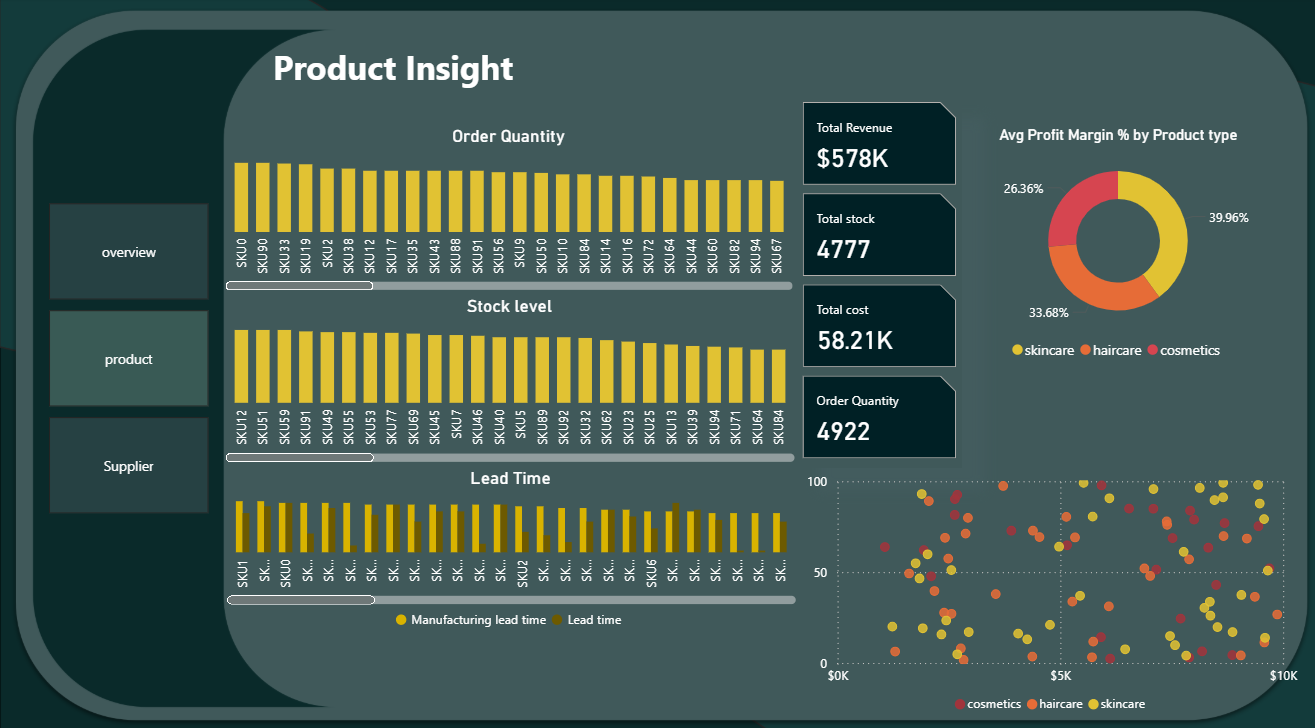

Layout of this report page (visuals, bound fields, positions):
{"tool":"powerbi","page":{"name":"product","canvas":[1280,720],"ordinal":1},"visuals":[{"type":"columnChart","title":"Order Quantity","fields":{"Y":["Table.Order Quantity"],"Category":["supply_chain_data.SKU"]},"box":[211.8,124.6,558.9,163.7],"z":0},{"type":"columnChart","title":"Stock level","fields":{"Category":["supply_chain_data.SKU"],"Y":["Sum(supply_chain_data.Stock levels)"]},"box":[211.8,288.3,560.6,165.5],"z":1000},{"type":"clusteredColumnChart","title":"Lead Time","fields":{"Category":["supply_chain_data.SKU"],"Y":["Sum(supply_chain_data.Manufacturing lead time)","Sum(supply_chain_data.Lead time)"]},"box":[213.6,453.8,560.6,165.5],"z":2000},{"type":"cardVisual","fields":{"Data":["Table.Total Revenue","Table.Total stock","Table.Total cost","Table.Order Quantity"]},"box":[770.6,96.1,158.4,357.7],"z":3000},{"type":"donutChart","fields":{"Category":["supply_chain_data.Product type"],"Y":["Sum(supply_chain_data.Avg Profit Margin %)"]},"box":[929,124.6,302.6,234.9],"z":4000},{"type":"scatterChart","fields":{"Category":["supply_chain_data.SKU"],"X":["Table.Total Revenue"],"Y":["Sum(supply_chain_data.Price)"],"Series":["supply_chain_data.Product type"]},"box":[774.2,453.8,484.1,247.4],"z":5000},{"type":"textbox","box":[259.8,40.9,259.8,55.2],"z":6000},{"type":"pageNavigator","box":[48.1,199.3,154.8,300.8],"z":7000}]}

Visuals, with their boxes in screenshot pixels (x1, y1, x2, y2), scaled from the page's 1280x720 canvas onto the 1315x728 screenshot:
"Order Quantity" columnChart: locate(218, 126, 792, 292)
"Stock level" columnChart: locate(218, 292, 794, 459)
"Lead Time" clusteredColumnChart: locate(219, 459, 795, 626)
cardVisual - Table.Total Revenue x Table.Total stock: locate(792, 97, 954, 459)
donutChart - supply_chain_data.Product type x Sum(supply_chain_data.Avg Profit Margin %): locate(954, 126, 1265, 363)
scatterChart - supply_chain_data.SKU x Table.Total Revenue: locate(795, 459, 1293, 709)
textbox: locate(267, 41, 534, 97)
pageNavigator: locate(49, 202, 208, 506)
